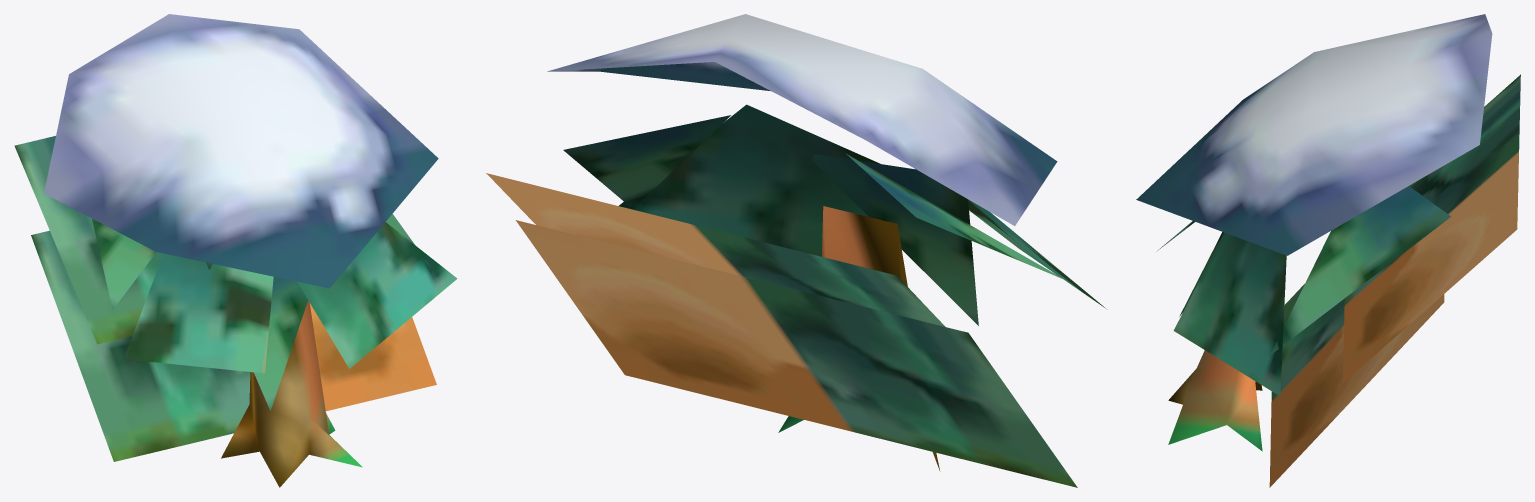
The model's file is fg_bushD_1_s.dae.
3 views of the same model, side by side, from view 1: azimuth 30°, elevation 25°; view 2: azimuth 150°, elevation 25°; view 3: azimuth 270°, elevation 25° (orthographic). The views are drawn at different scales.
Parts seen in each view (by area): view 1: fg_bushD_1_s; view 2: fg_bushD_1_s; view 3: fg_bushD_1_s.
Part boxes in pixels (bbox=[...]): fg_bushD_1_s: bbox=[14, 14, 457, 487]; fg_bushD_1_s: bbox=[486, 14, 1105, 487]; fg_bushD_1_s: bbox=[1136, 14, 1520, 487].
Bounding box in the file's own units: 30.89 × 29.19 × 26.27.
1 material, 1 textured.
